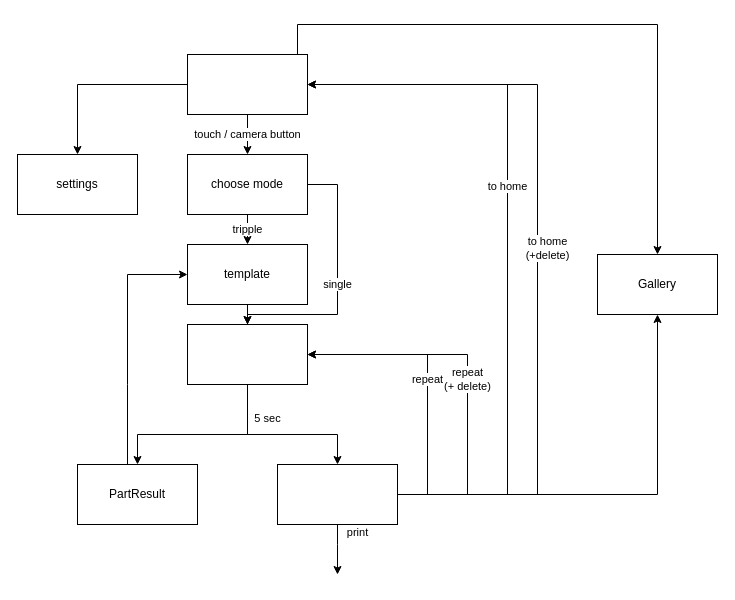
Some shapes in this 735 by 600 pixel diagram are drawn without their labels. Each missing label, with the centre of its shape:
Countdown: point (247, 354)
EndResult (+ edit possibility): point (337, 494)
Home: point (247, 84)
